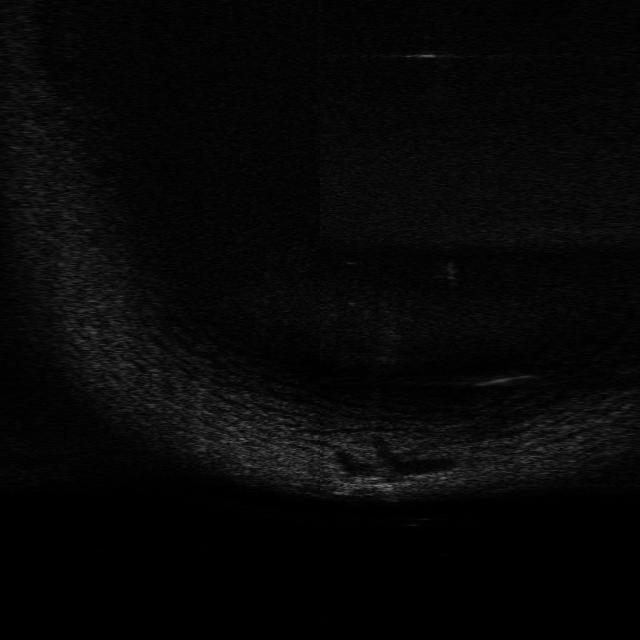plane: (329, 471, 408, 495)
